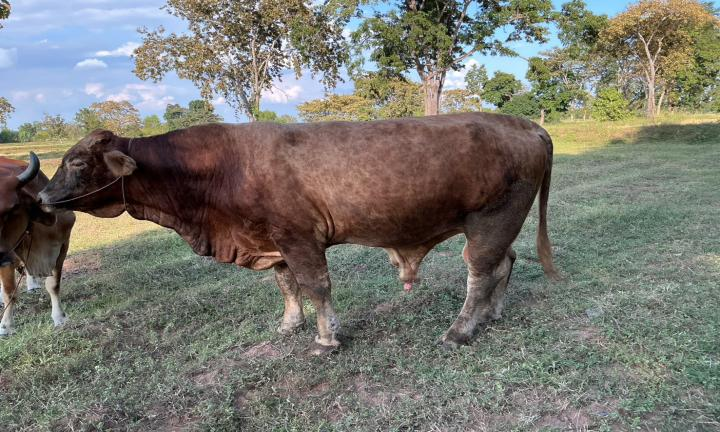Charolais: (39, 112, 561, 353)
